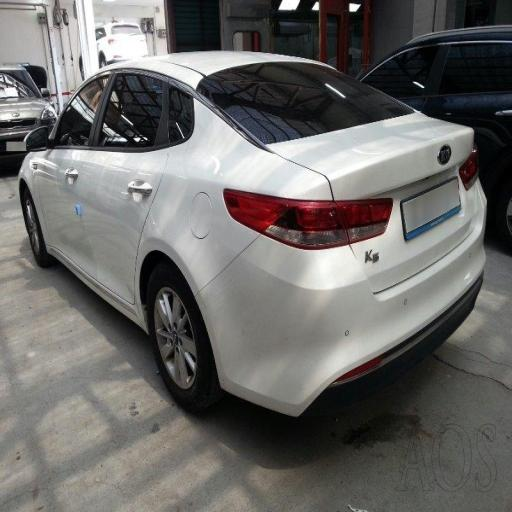scratch: (178, 131, 244, 201)
